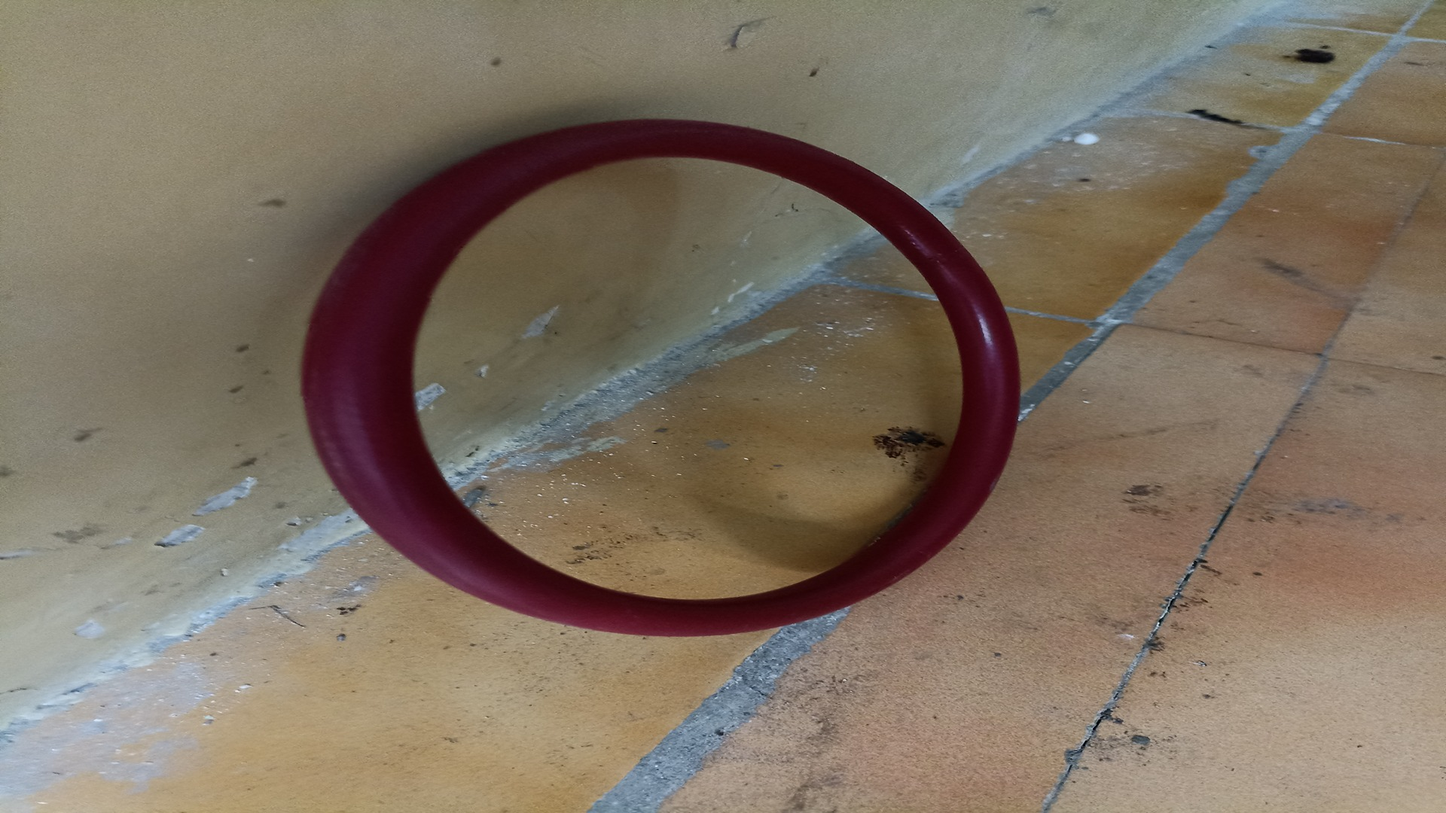Red ring: (299, 120, 1025, 635)
